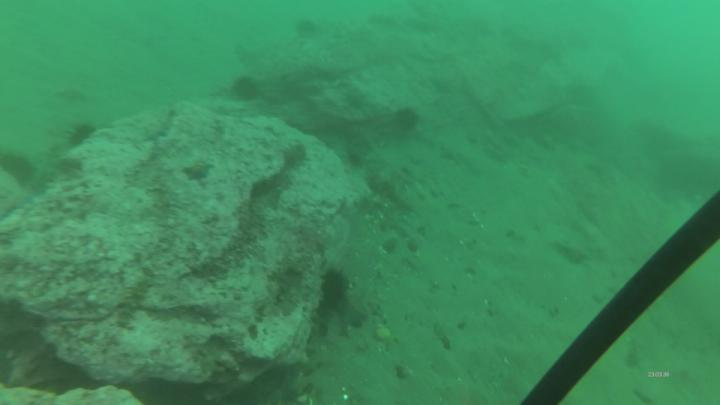echinus: (324, 271, 347, 311), (396, 109, 417, 129), (236, 76, 254, 99), (69, 125, 93, 141), (299, 22, 317, 34)
starfish: (186, 161, 213, 181)
